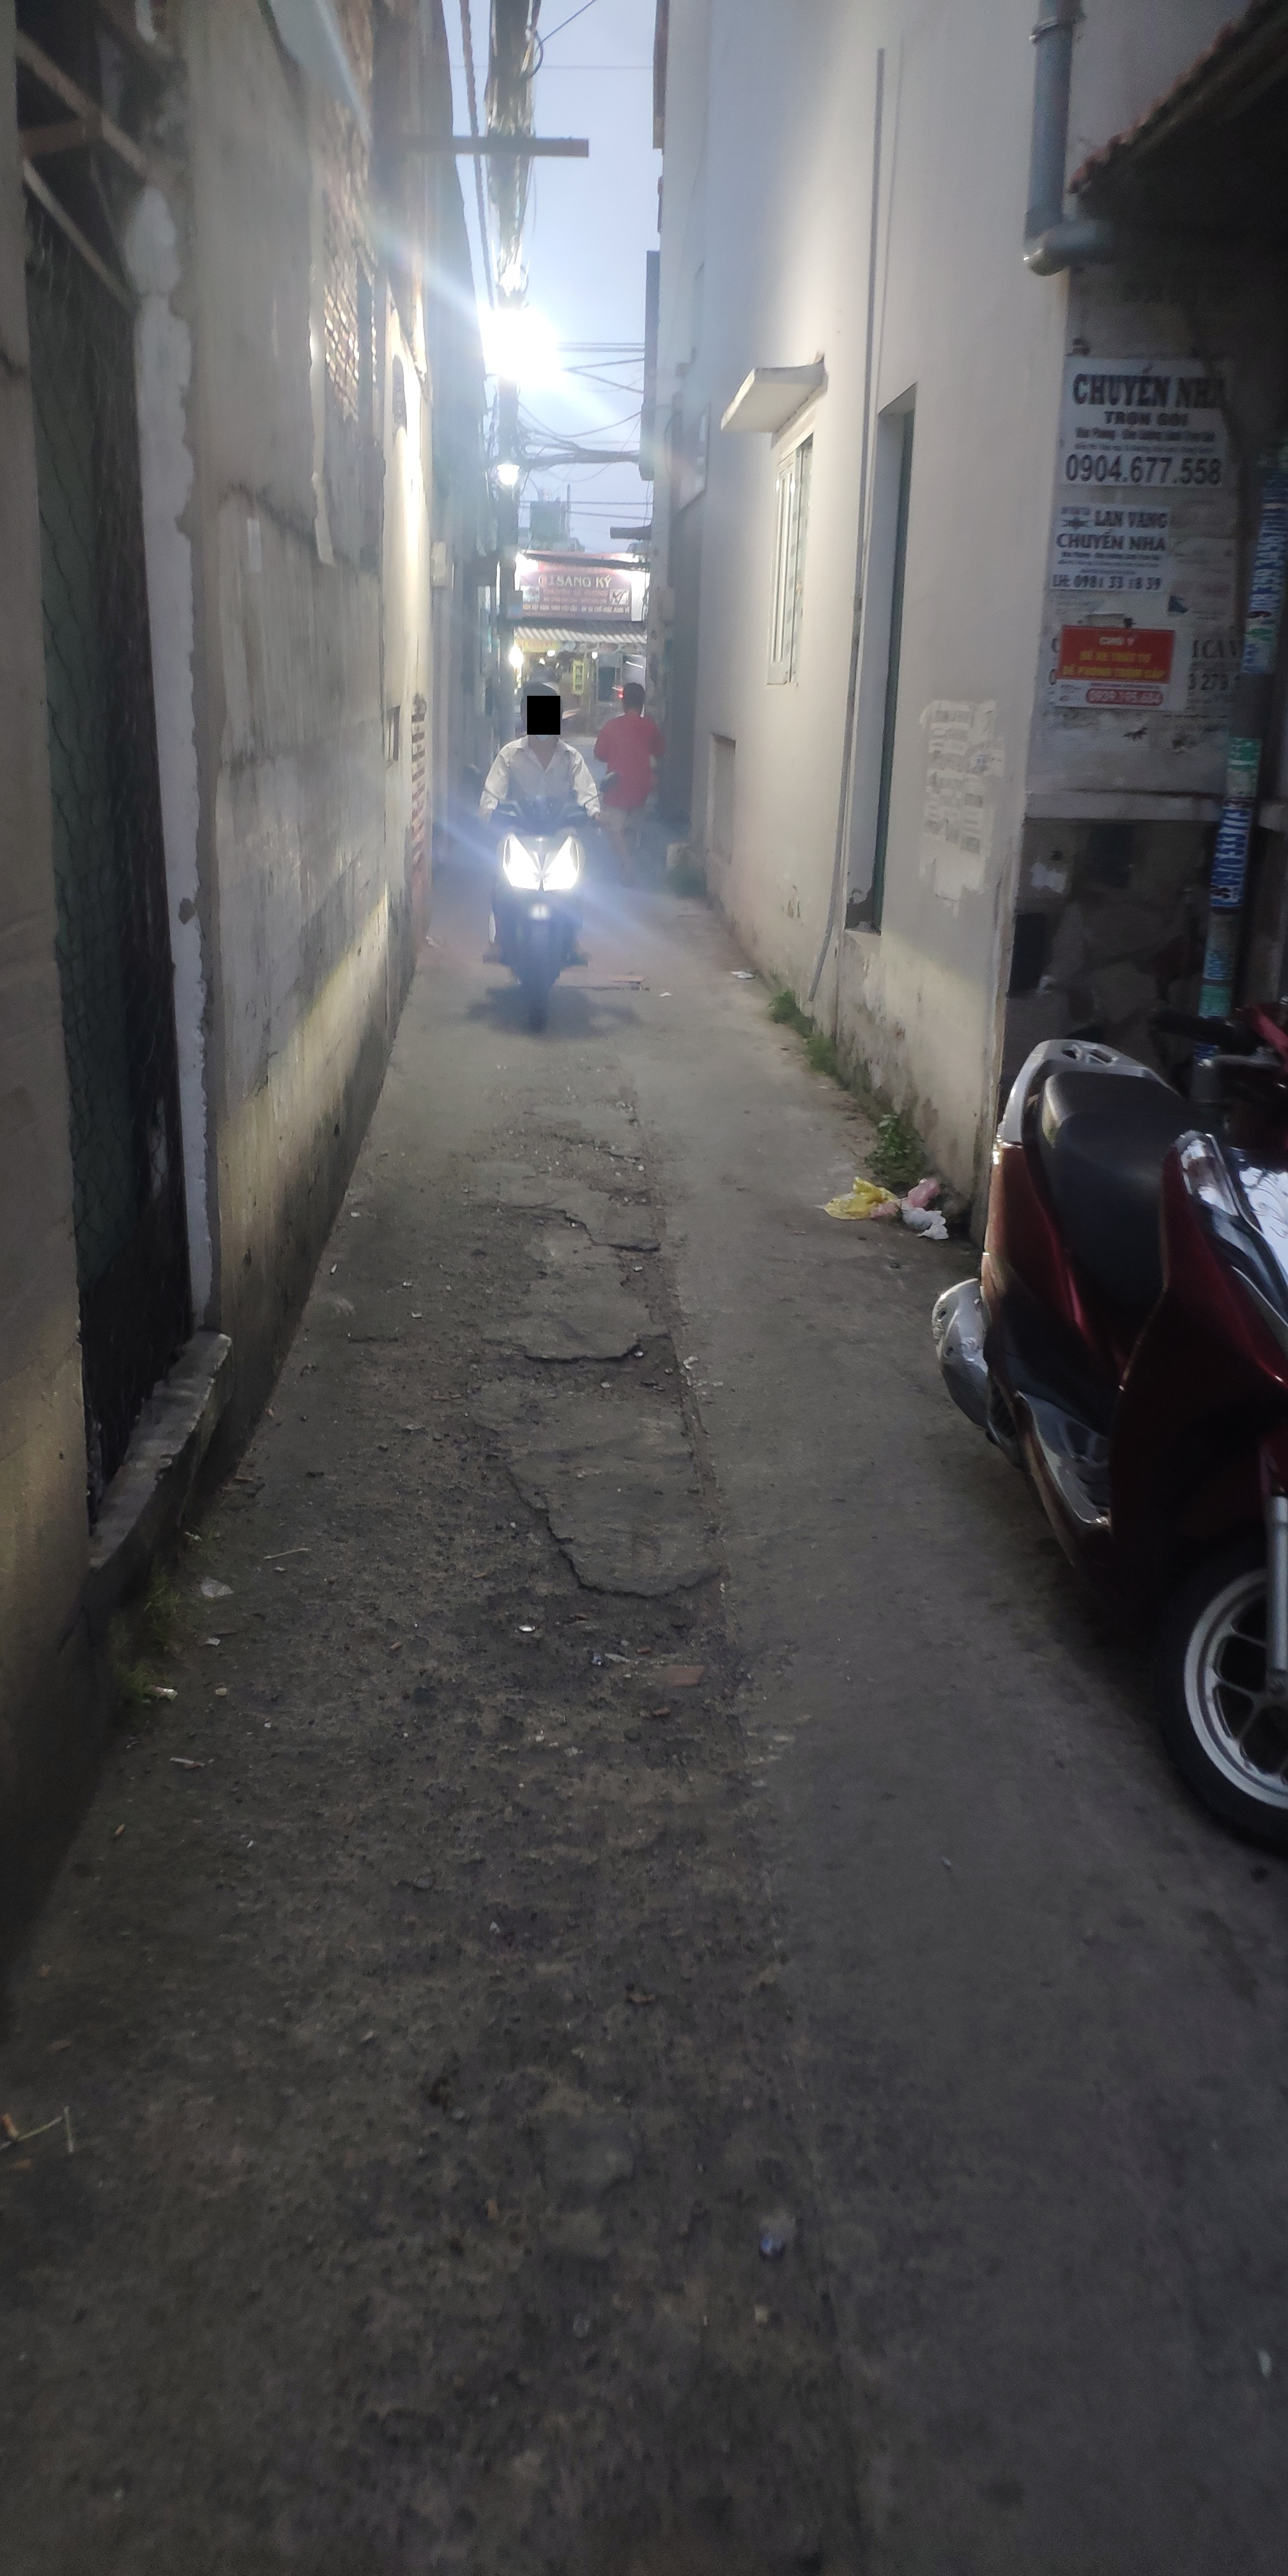hole: (429, 1970, 820, 2311), (453, 1590, 743, 1728), (490, 1327, 678, 1423), (537, 1134, 652, 1212), (613, 1242, 678, 1324), (521, 1199, 598, 1244), (606, 1088, 646, 1134)
